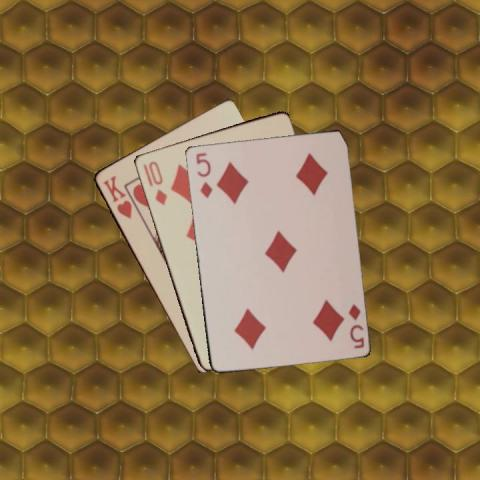10d: (139, 158, 168, 207)
5d: (193, 150, 213, 199), (345, 301, 365, 350)
Kh: (100, 172, 134, 220)
